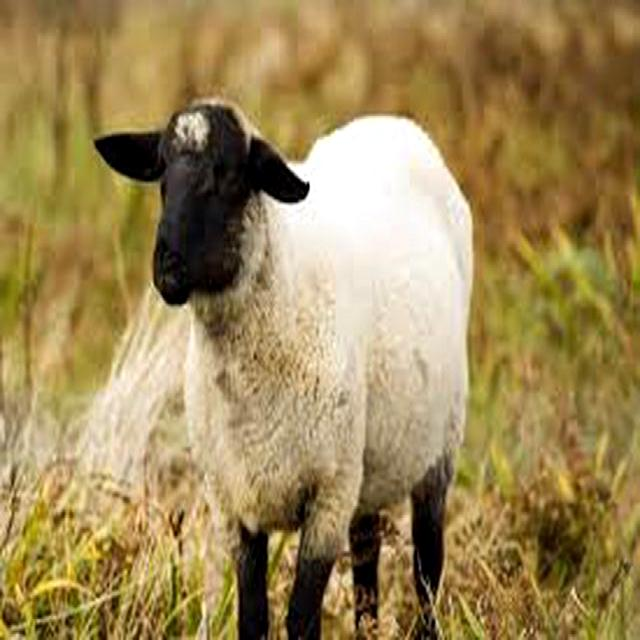sheep: (92, 96, 474, 640)
